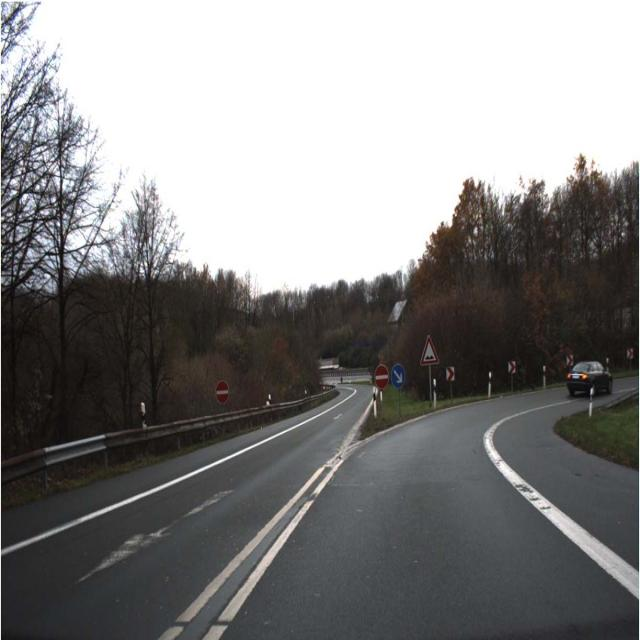girisyok: (374, 365, 389, 391), (216, 380, 229, 404)
